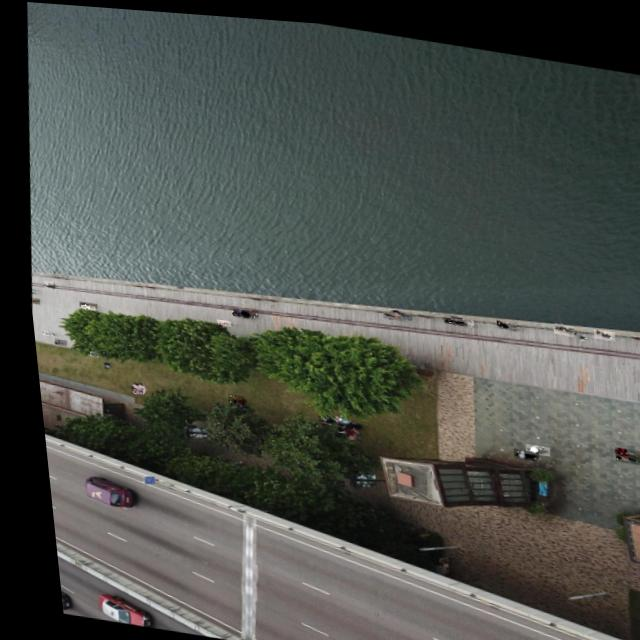Person: (503, 440, 530, 452), (606, 442, 632, 454), (515, 435, 541, 447), (490, 310, 514, 323), (605, 437, 633, 448), (382, 302, 406, 314), (546, 314, 568, 327), (586, 319, 609, 331), (226, 304, 252, 313), (443, 309, 467, 318), (376, 307, 397, 316), (218, 390, 236, 400), (436, 311, 461, 318), (72, 299, 91, 307), (209, 315, 224, 322), (46, 337, 59, 345), (123, 384, 135, 392), (82, 349, 95, 356), (37, 279, 48, 287), (74, 302, 88, 308), (35, 329, 47, 335), (25, 296, 33, 303), (25, 297, 33, 301)
